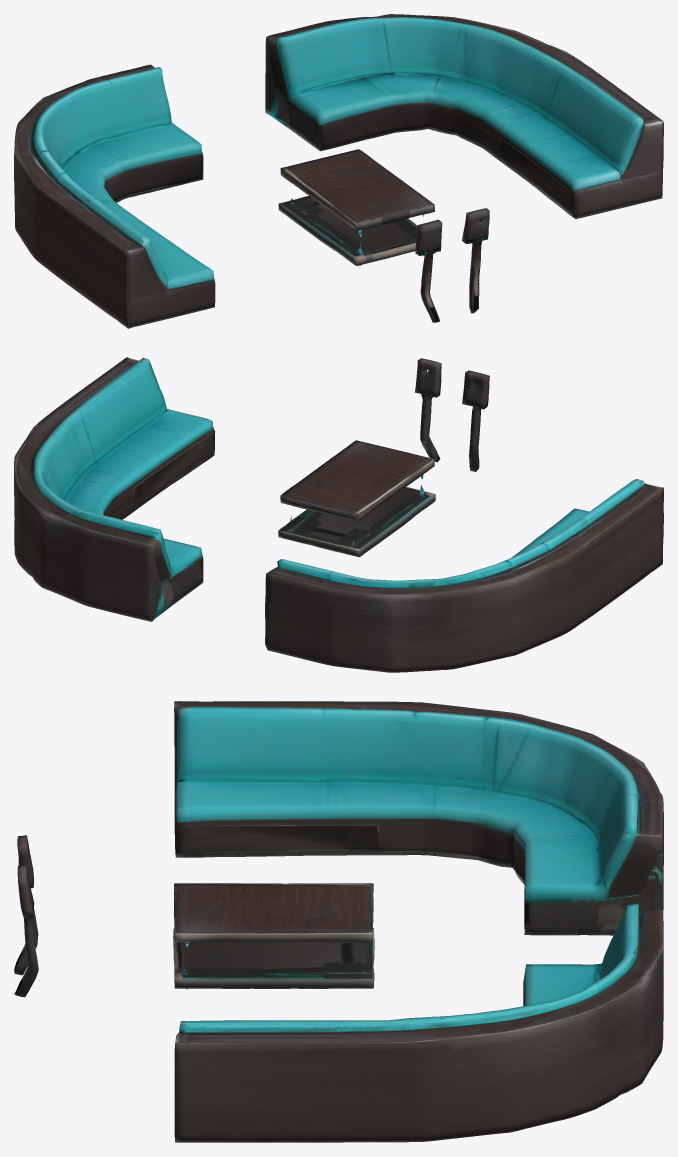
The model's file is retro_bowling_booth_0411205021_texture.fbx.
The picture shows the model from 3 angles, top to bottom: view 1: azimuth 30°, elevation 25°; view 2: azimuth 150°, elevation 25°; view 3: azimuth 270°, elevation 25°; orthographic projection. The views are drawn at different scales.
Parts seen in each view (by area): view 1: Mesh1; view 2: Mesh1; view 3: Mesh1.
Boxes of the visible parts, left/top/right/bottom form: Mesh1: left=14, top=14, right=663, bottom=328; Mesh1: left=14, top=357, right=663, bottom=672; Mesh1: left=14, top=701, right=663, bottom=1142.
Bounding box in the file's own units: 200 × 35.5 × 160.
1 material, 1 textured.
